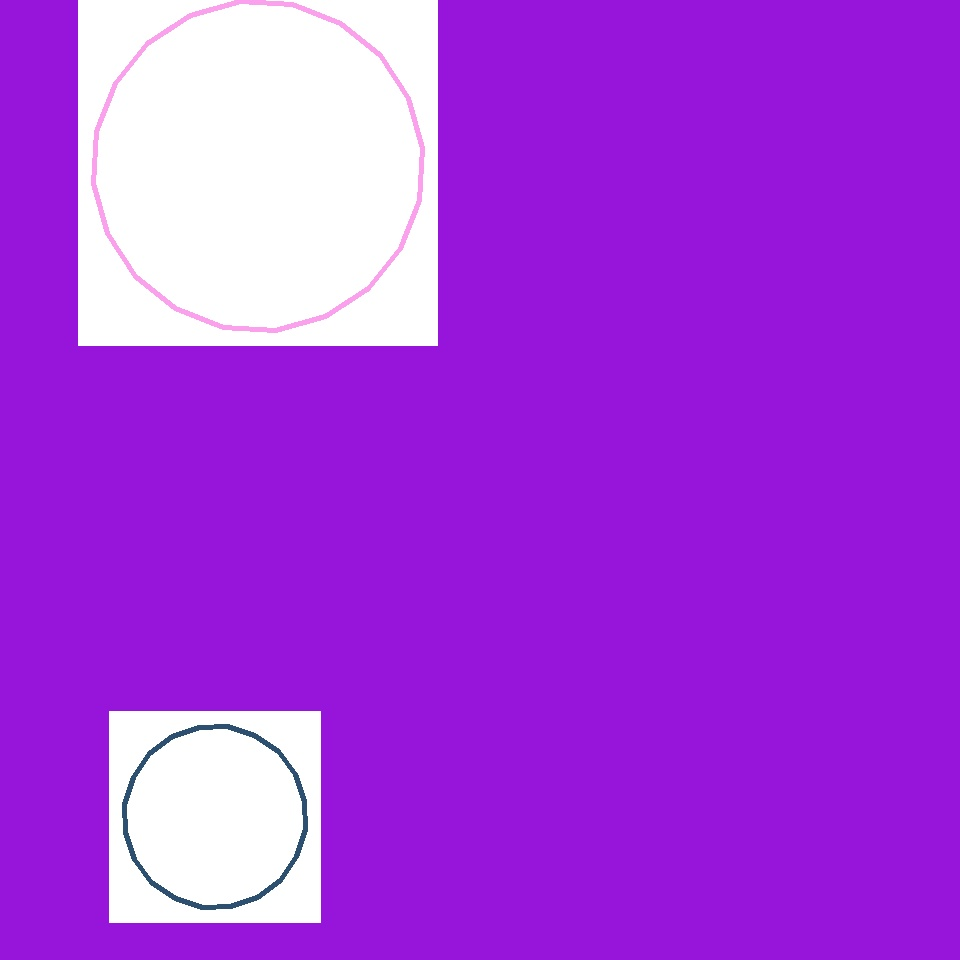circle: (600, 380, 897, 644), (126, 330, 324, 538), (134, 103, 317, 293)
triangle: (93, 1, 422, 330), (524, 45, 744, 266), (125, 726, 306, 908), (442, 320, 571, 450), (268, 213, 394, 338)
